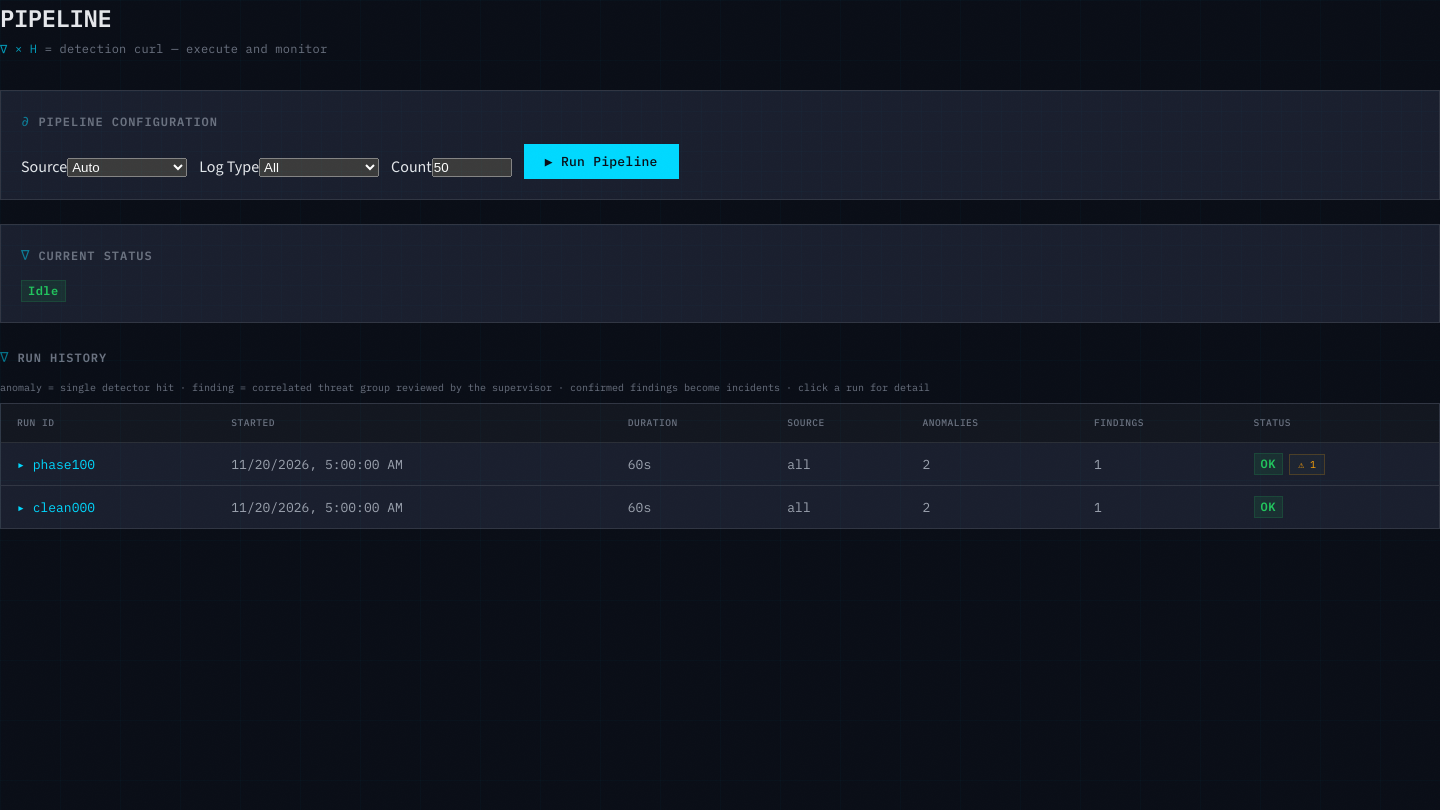
it: Pipeline page — Phase 1 run detail (A3/A4/N7) › expands the run detail with the degradations panel and fallback copy
Check: the text "⚠ 1" is shown, box [1289,454,1325,475]
Click the cell "▸ phase100": {"x": 108, "y": 464} [1,443,215,486]
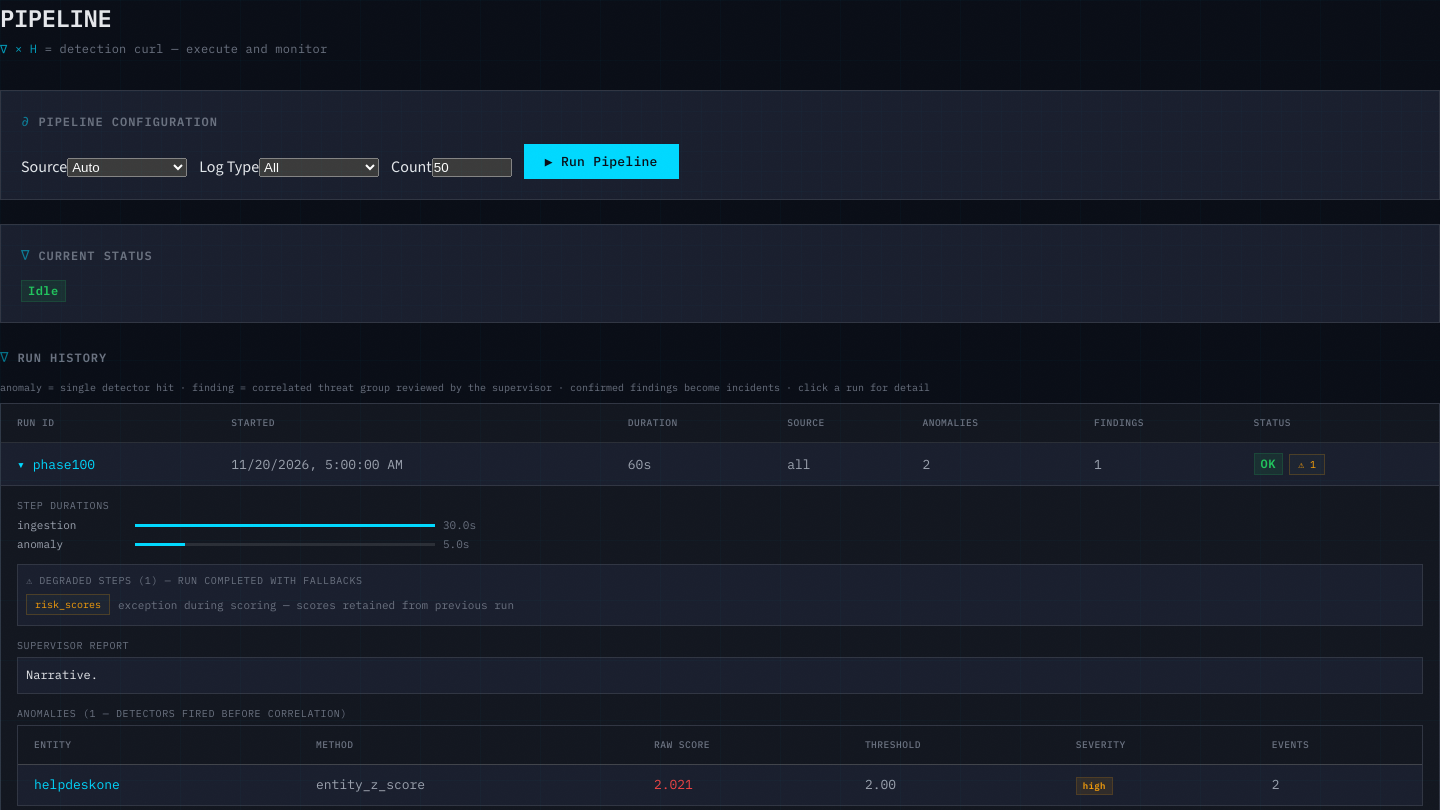
Check: the text "⚠ Degraded steps (1) — run completed with fallbacks" is shown, box [26,574,363,587]
Check: the text "exception during scoring — scores retained from previous run" is shown, box [118,597,514,613]
